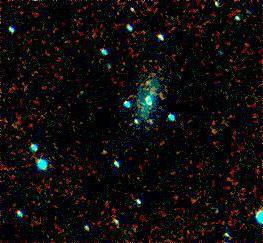star: (130, 65, 160, 95)
